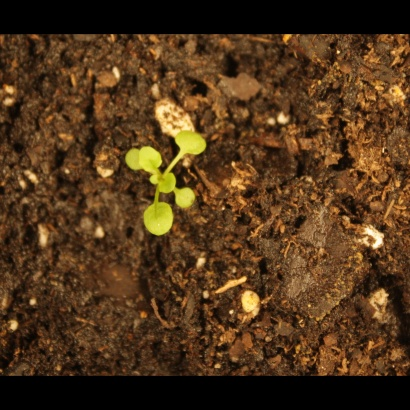leaf: (139, 201, 177, 238), (171, 129, 211, 157), (173, 186, 203, 212), (137, 146, 164, 174), (149, 172, 179, 195), (122, 144, 145, 173)
